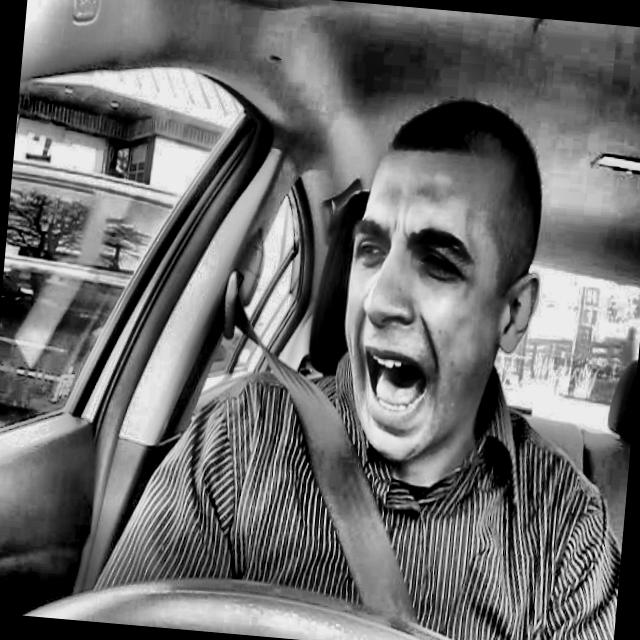open_eyes: (344, 230, 388, 272)
open_mouth: (349, 332, 448, 443)
